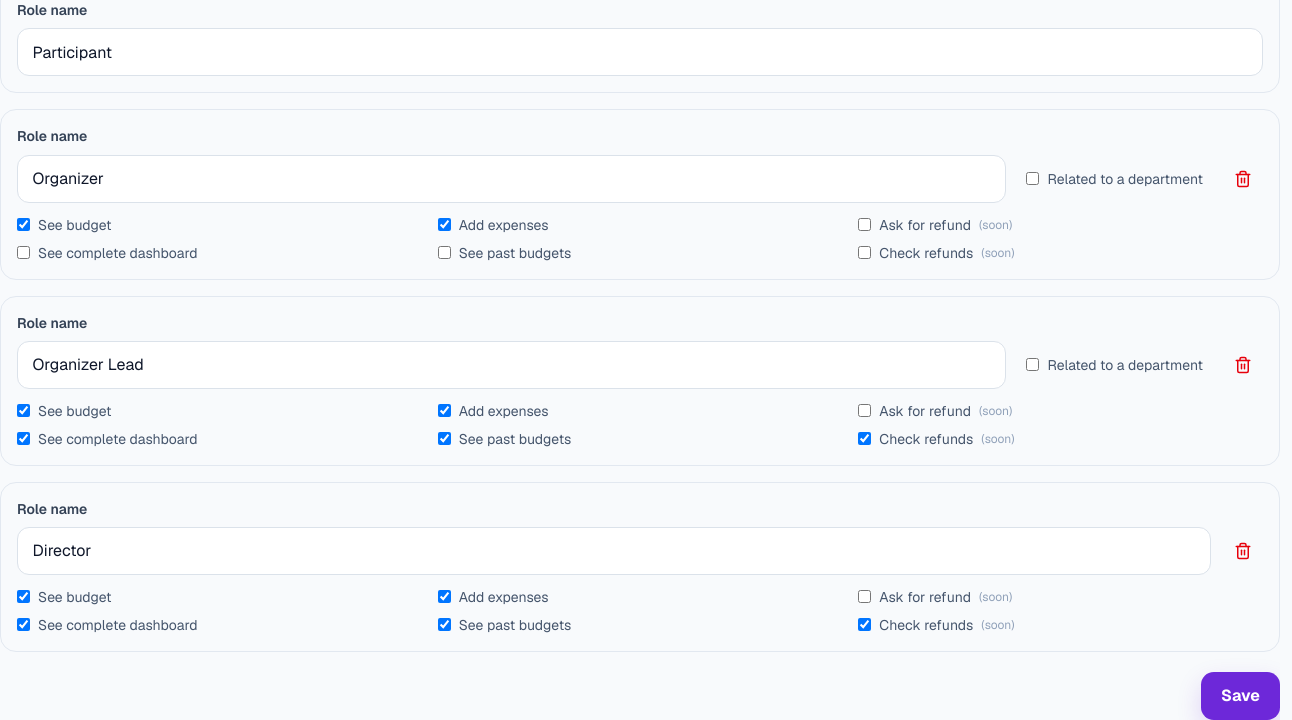
it: RoleSettingsForm › submits the role settings operation and shows success
(page scrolled)
Click the button "Save": coordinates (1241, 696) [1201,672,1280,719]
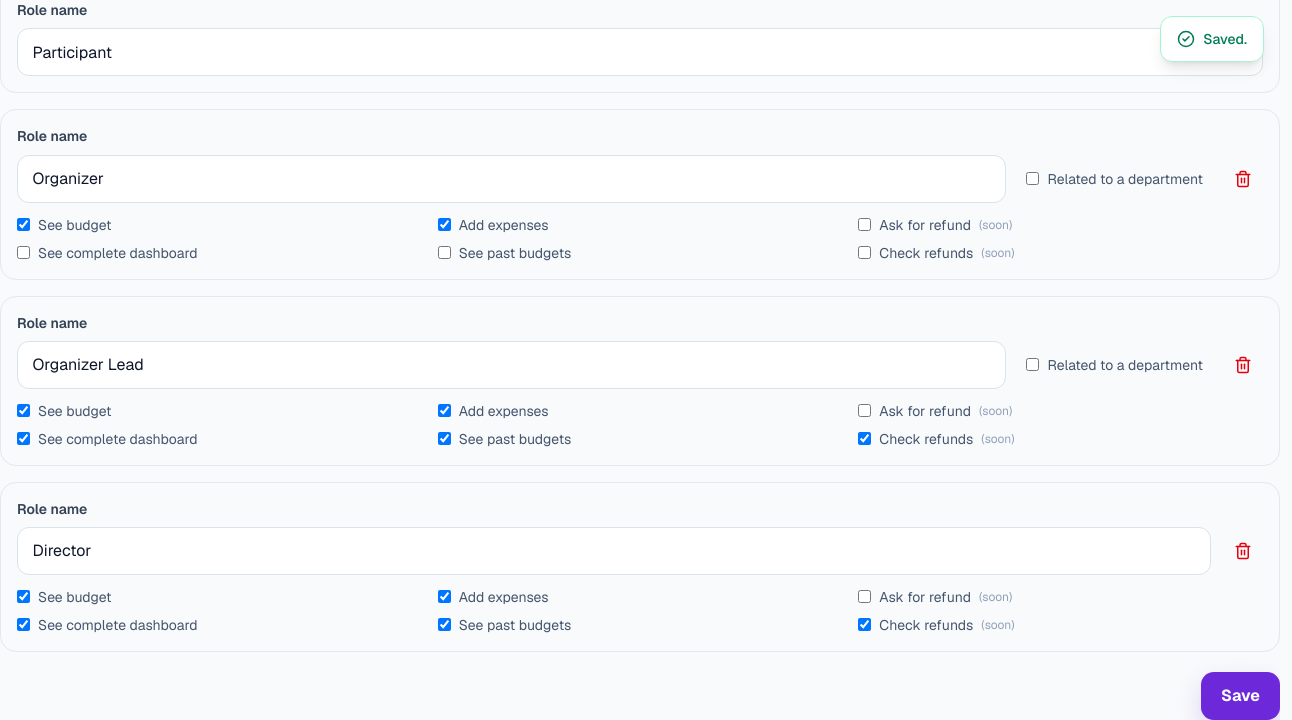
Check: the message reads "Saved.", box [1203,30,1247,48]
